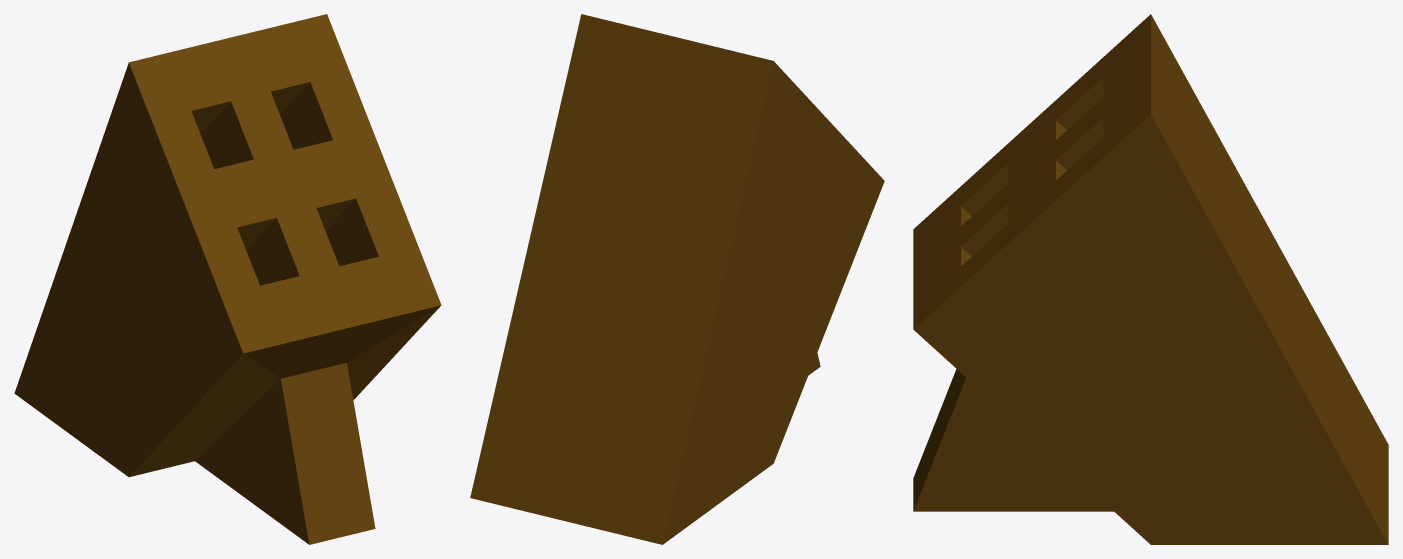
The model's file is Knife Holder.fbx.
3 renders of one model, left to right at view 1: azimuth 30°, elevation 25°; view 2: azimuth 150°, elevation 25°; view 3: azimuth 270°, elevation 25°, orthographic. The views are drawn at different scales.
Parts seen in each view (by area): view 1: Knife Holder; view 2: Knife Holder; view 3: Knife Holder.
Boxes of the visible parts, <box> form: Knife Holder: <box>14,14,441,544</box>; Knife Holder: <box>470,14,884,544</box>; Knife Holder: <box>913,14,1388,544</box>.
Size of the model in its own units: 100 by 200 by 200.
